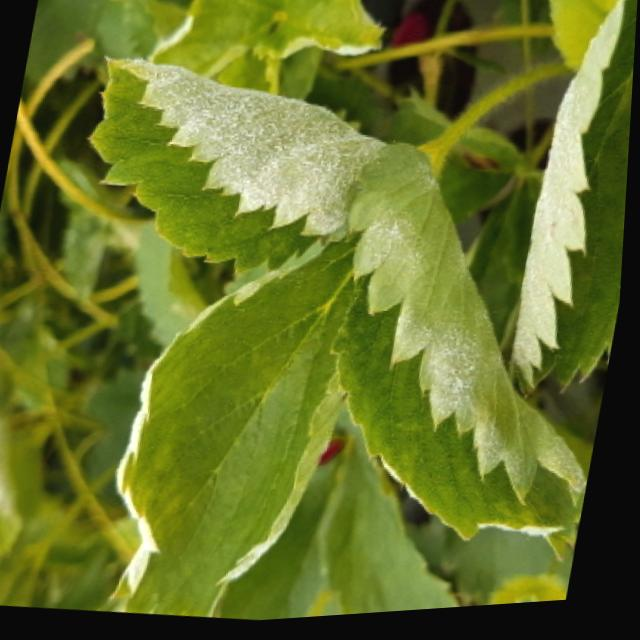Powdery Mildew Leaf: (332, 150, 594, 573), (114, 234, 365, 620), (85, 55, 389, 277), (514, 2, 638, 407), (164, 0, 389, 65)
